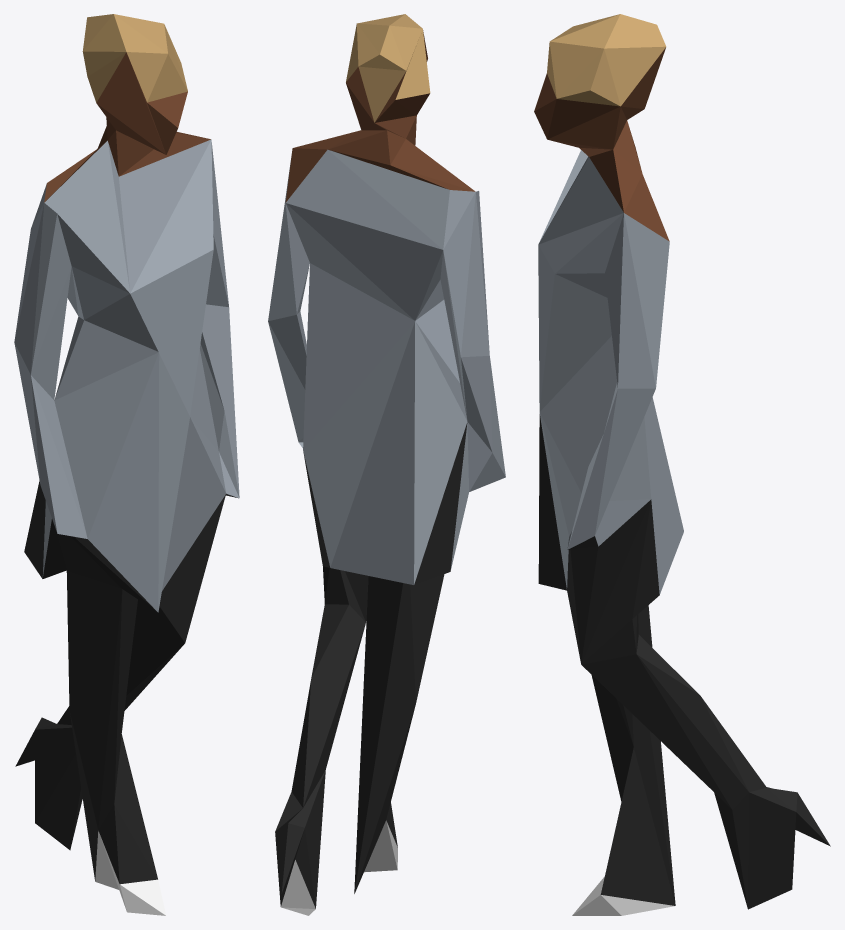
Rendered from walker-2.glb.
3 views of the same model, side by side, from view 1: azimuth 30°, elevation 25°; view 2: azimuth 150°, elevation 25°; view 3: azimuth 270°, elevation 25° (orthographic). The views are drawn at different scales.
Parts seen in each view (by area): view 1: Woman08; view 2: Woman08; view 3: Woman08.
Part boxes in pixels (bbox=[...]): Woman08: bbox=[14, 14, 239, 915]; Woman08: bbox=[268, 14, 505, 915]; Woman08: bbox=[534, 14, 830, 915].
Size of the model in its own units: 0.3797 by 1.55 by 0.4708.
